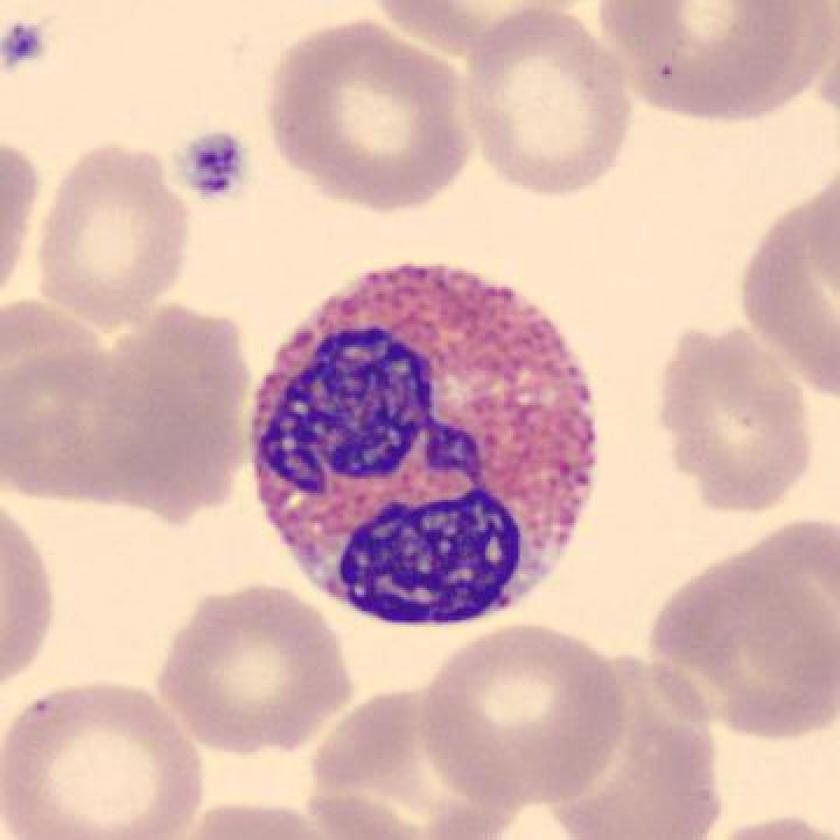eosinophil: (234, 251, 615, 640)
